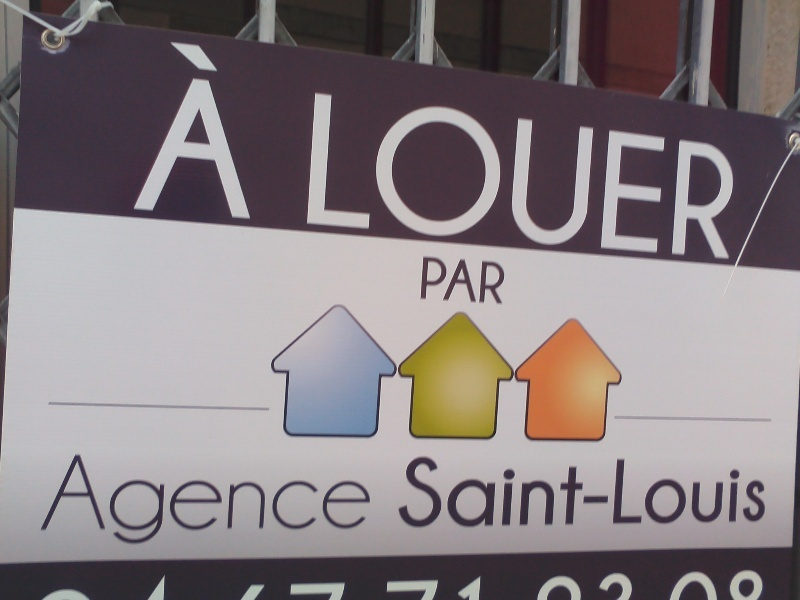text: (177, 41, 192, 222), (193, 41, 208, 222), (209, 41, 224, 222), (225, 41, 240, 222), (321, 90, 336, 263), (337, 90, 352, 263), (353, 90, 368, 263), (369, 90, 384, 263), (385, 90, 400, 263), (401, 90, 416, 263), (417, 90, 432, 263), (433, 90, 448, 263), (449, 90, 464, 263), (465, 90, 480, 263), (481, 90, 496, 263), (497, 90, 512, 263), (513, 90, 528, 263), (529, 90, 544, 263), (545, 90, 560, 263), (561, 90, 576, 263), (577, 90, 592, 263), (593, 90, 608, 263), (609, 90, 624, 263), (625, 90, 640, 263), (641, 90, 656, 263), (657, 90, 672, 263), (673, 90, 688, 263), (689, 90, 704, 263), (705, 90, 720, 263), (721, 90, 736, 263), (241, 41, 255, 222), (310, 90, 320, 263), (81, 452, 96, 553), (97, 452, 112, 553), (113, 452, 128, 553), (129, 452, 144, 553), (145, 452, 160, 553), (161, 452, 176, 553), (177, 452, 192, 553), (193, 452, 208, 553), (209, 452, 224, 553), (225, 452, 240, 553), (241, 452, 256, 553), (257, 452, 272, 553), (273, 452, 288, 553), (289, 452, 304, 553), (305, 452, 320, 553), (321, 452, 336, 553), (337, 452, 352, 553), (353, 452, 368, 553), (417, 454, 432, 531), (433, 454, 448, 531), (449, 454, 464, 531), (465, 454, 480, 531), (481, 454, 496, 531), (497, 454, 512, 531), (513, 454, 528, 531), (529, 454, 544, 531), (545, 454, 560, 531), (561, 454, 576, 531), (577, 454, 592, 531), (593, 454, 608, 531), (609, 454, 624, 531), (625, 454, 640, 531), (641, 454, 656, 531), (657, 454, 672, 531), (673, 454, 688, 531), (689, 454, 704, 531), (705, 454, 720, 531), (721, 454, 736, 531), (737, 454, 752, 531), (753, 454, 768, 531), (170, 41, 176, 222), (403, 454, 416, 531), (72, 452, 80, 553), (433, 254, 448, 306), (449, 254, 464, 306), (465, 254, 480, 306), (481, 254, 496, 306), (369, 452, 376, 553), (420, 254, 432, 306), (497, 254, 507, 306), (49, 569, 64, 600), (65, 569, 80, 600), (81, 569, 96, 600), (97, 569, 112, 600), (113, 569, 128, 600), (129, 569, 144, 600), (145, 569, 160, 600), (161, 569, 176, 600), (177, 569, 192, 600), (193, 569, 208, 600), (209, 569, 224, 600), (225, 569, 240, 600), (241, 569, 256, 600), (257, 569, 272, 600), (273, 569, 288, 600), (289, 569, 304, 600), (305, 569, 320, 600), (321, 569, 336, 600), (337, 569, 352, 600), (353, 569, 368, 600), (369, 569, 384, 600), (385, 569, 400, 600), (401, 569, 416, 600), (417, 569, 432, 600), (433, 569, 448, 600), (449, 569, 464, 600), (465, 569, 480, 600), (481, 569, 496, 600), (497, 569, 512, 600), (513, 569, 528, 600), (529, 569, 544, 600), (545, 569, 560, 600), (561, 569, 576, 600), (577, 569, 592, 600), (593, 569, 608, 600), (609, 569, 624, 600), (625, 569, 640, 600), (641, 569, 656, 600), (657, 569, 672, 600), (673, 569, 688, 600), (689, 569, 704, 600), (705, 569, 720, 600), (721, 569, 736, 600), (737, 569, 752, 600), (753, 569, 768, 600), (45, 569, 48, 600), (769, 569, 770, 600)
